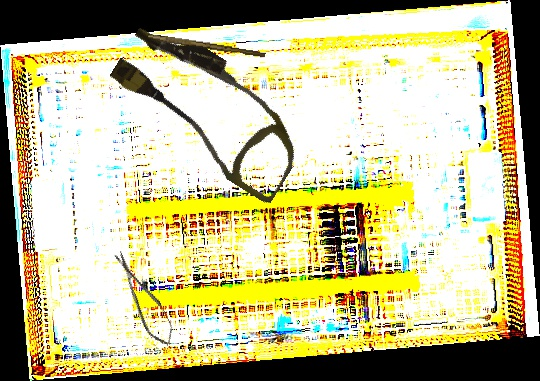Cannula: (96, 12, 322, 206)
Micro Scissor: (108, 245, 180, 352)
Scalpel Handle: (147, 33, 266, 59)
